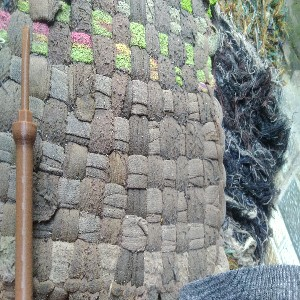obeng: (10, 26, 39, 300)
